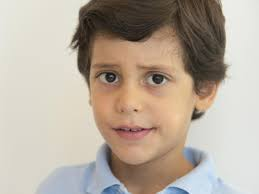person: (76, 1, 228, 168)
